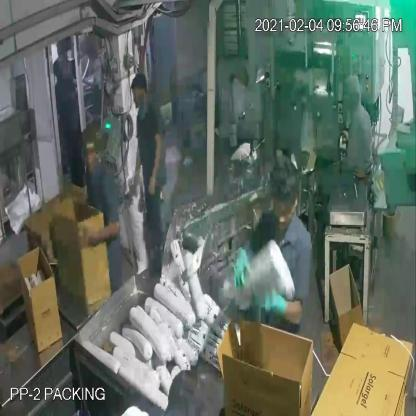glove: (260, 281, 308, 334), (228, 240, 260, 293)
no_glove: (78, 215, 126, 255), (122, 136, 144, 206), (148, 129, 166, 203)
